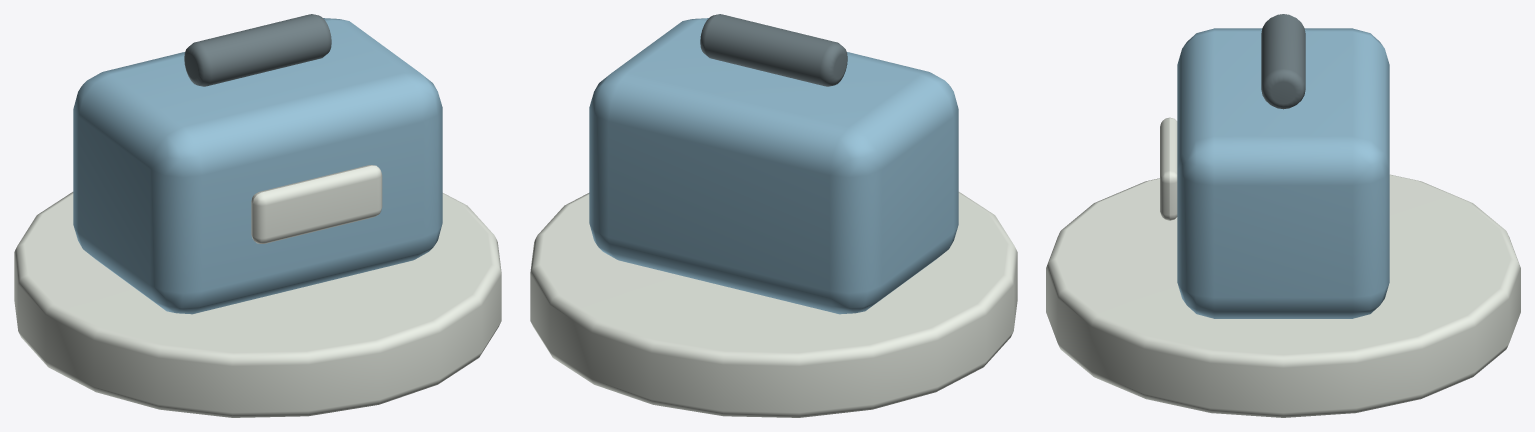
Rendered from bonus_repair.glb.
The picture shows the model from 3 angles, left to right: view 1: azimuth 30°, elevation 25°; view 2: azimuth 150°, elevation 25°; view 3: azimuth 270°, elevation 25°; orthographic projection. The views are drawn at different scales.
Visible parts, largest first — view 1: Base_repair_toolbox, Bonus_rounded_plinth001, Repair_badge, Toolbox_handle; view 2: Base_repair_toolbox, Bonus_rounded_plinth001, Toolbox_handle; view 3: Bonus_rounded_plinth001, Base_repair_toolbox, Toolbox_handle, Repair_badge.
Boxes of the visible parts, x1,y1,x2,y2 form: Base_repair_toolbox: [73, 18, 442, 314]; Bonus_rounded_plinth001: [14, 192, 501, 417]; Repair_badge: [251, 165, 382, 243]; Toolbox_handle: [184, 14, 331, 86]; Base_repair_toolbox: [589, 18, 958, 314]; Bonus_rounded_plinth001: [530, 192, 1017, 417]; Toolbox_handle: [700, 14, 847, 86]; Bonus_rounded_plinth001: [1046, 174, 1520, 417]; Base_repair_toolbox: [1177, 28, 1389, 318]; Toolbox_handle: [1261, 14, 1305, 109]; Repair_badge: [1160, 117, 1177, 220].
Bounding box in the file's own units: 0.96 × 0.625 × 0.96.
